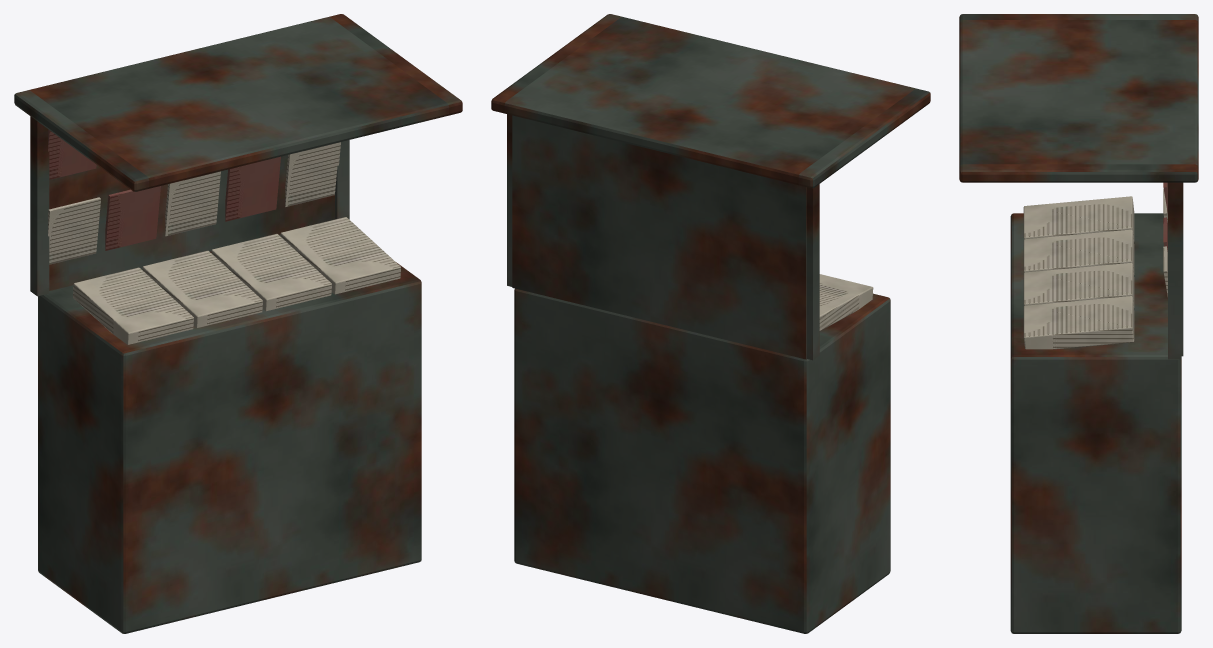
File: R24_NewspaperStand.glb
3 renders of one model, left to right at view 1: azimuth 30°, elevation 25°; view 2: azimuth 150°, elevation 25°; view 3: azimuth 270°, elevation 25°, orthographic. The views are drawn at different scales.
Parts seen in each view (by area): view 1: R24_NewspaperStand; view 2: R24_NewspaperStand; view 3: R24_NewspaperStand.
Part boxes in pixels (box(x1,y1,x2,y2)): R24_NewspaperStand: box(14, 14, 462, 633); R24_NewspaperStand: box(491, 14, 930, 633); R24_NewspaperStand: box(959, 14, 1198, 633).
Bounding box in the file's own units: 1.09 × 1.5 × 0.6908.
3 materials, 3 textured.
